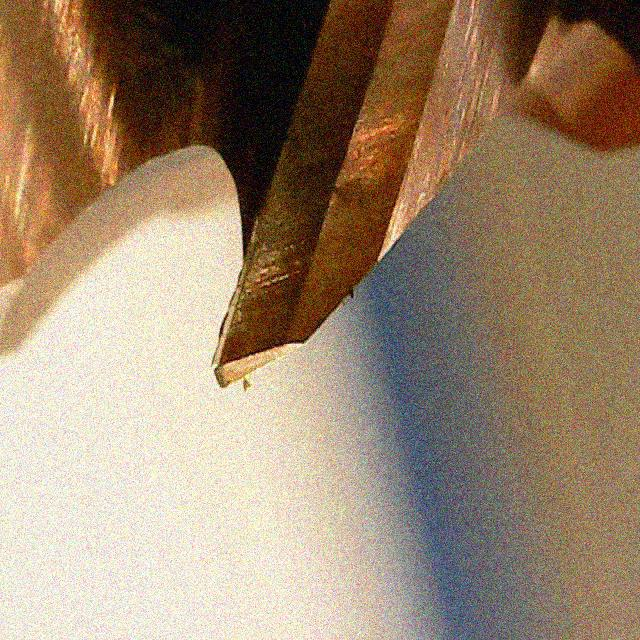Tool-wear-class-1: (201, 180, 340, 405)
